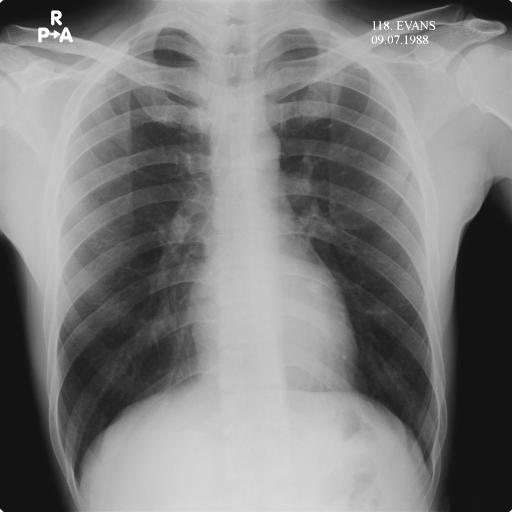normal: (40, 16, 456, 498)
